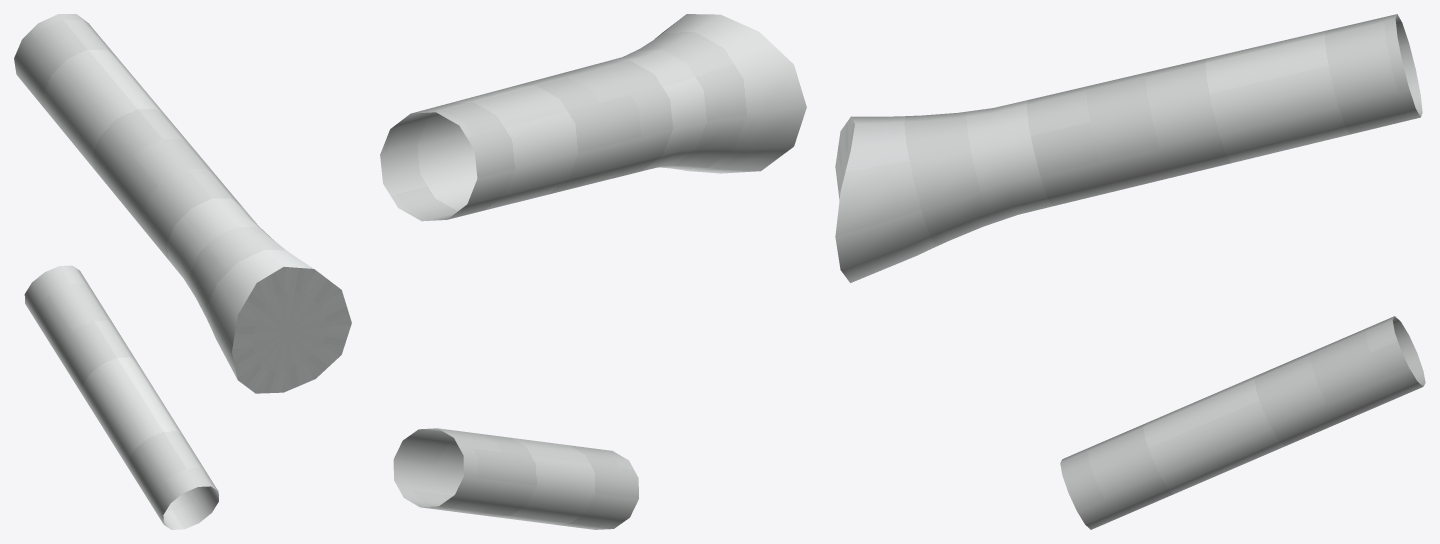
The model's file is luminairearm_truss15ftstraightdouble_c0.obj.
3 views of the same model, side by side, from view 1: azimuth 30°, elevation 25°; view 2: azimuth 150°, elevation 25°; view 3: azimuth 270°, elevation 25° (orthographic). The views are drawn at different scales.
Visible parts, largest first — view 1: luminairearm_truss15ftstraightdouble_c0; view 2: luminairearm_truss15ftstraightdouble_c0; view 3: luminairearm_truss15ftstraightdouble_c0.
Boxes of the visible parts, box(x1,y1,x2,y2) form: luminairearm_truss15ftstraightdouble_c0: box(14, 14, 351, 529); luminairearm_truss15ftstraightdouble_c0: box(380, 14, 806, 529); luminairearm_truss15ftstraightdouble_c0: box(835, 14, 1425, 529).
Bounding box in the file's own units: 0.3375 × 1.14 × 1.2.
